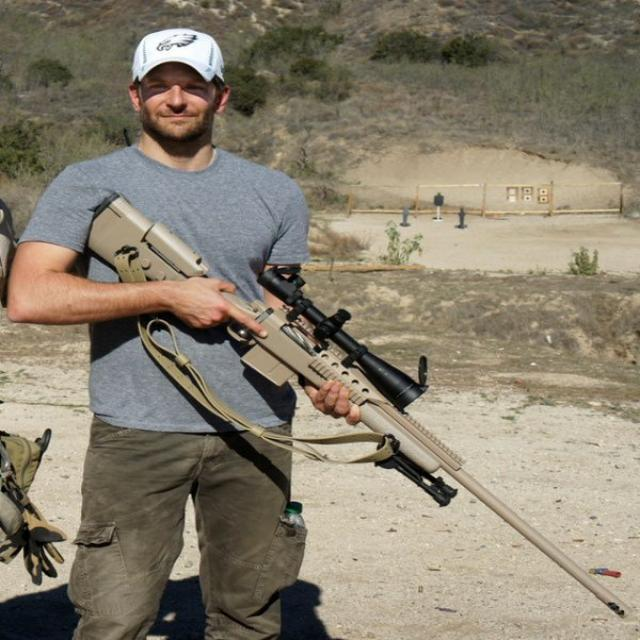rifle: (64, 191, 640, 625)
